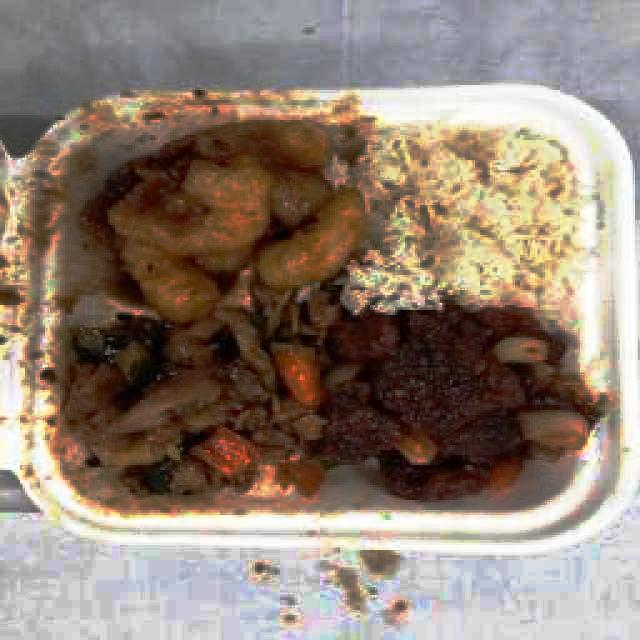Beijing Beef: (328, 307, 570, 497)
Kung Pao Chicken: (67, 312, 322, 510)
rice: (371, 147, 570, 291)
